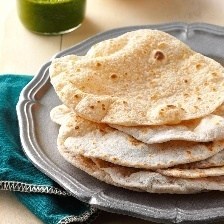roti: (47, 27, 224, 194)
